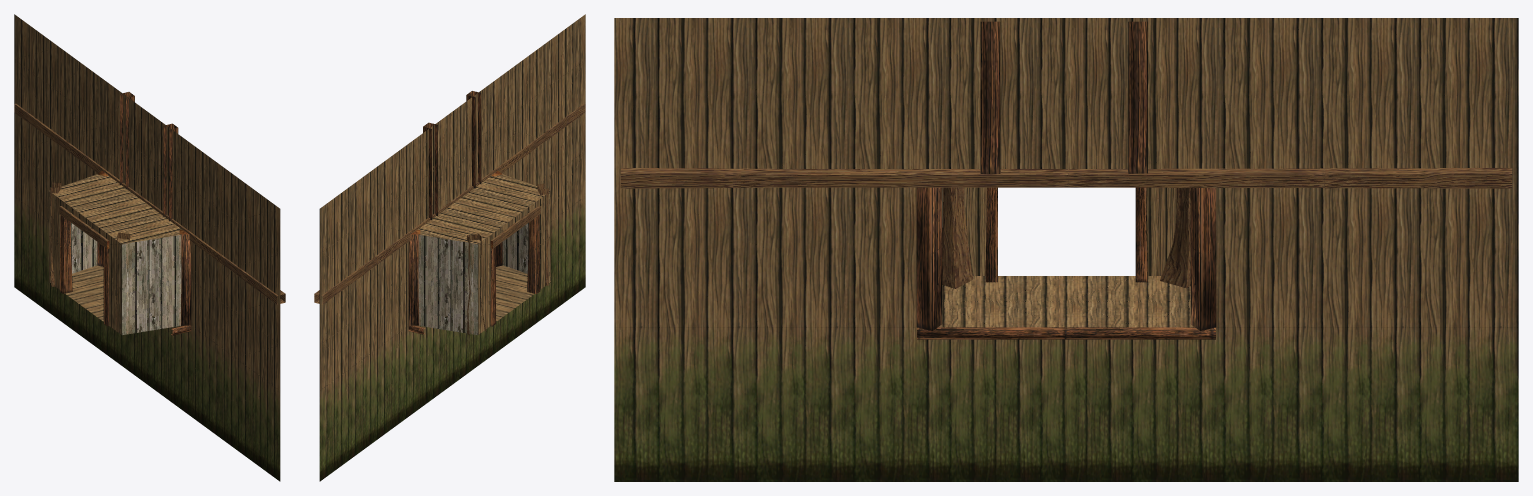
File: LAKETOWN_WAREHOUSE2_PS_WH2_BACKWALL94948__GX.fbx
3 views of the same model, side by side, from view 1: azimuth 30°, elevation 25°; view 2: azimuth 150°, elevation 25°; view 3: azimuth 270°, elevation 25° (orthographic). The views are drawn at different scales.
Visible parts, largest first — view 1: LAKETOWN_WAREHOUSE2_PS_WH2_BACKWALL94948__GX; view 2: LAKETOWN_WAREHOUSE2_PS_WH2_BACKWALL94948__GX; view 3: LAKETOWN_WAREHOUSE2_PS_WH2_BACKWALL94948__GX.
Part boxes in pixels (bbox=[...]): LAKETOWN_WAREHOUSE2_PS_WH2_BACKWALL94948__GX: bbox=[14, 14, 285, 481]; LAKETOWN_WAREHOUSE2_PS_WH2_BACKWALL94948__GX: bbox=[314, 14, 585, 481]; LAKETOWN_WAREHOUSE2_PS_WH2_BACKWALL94948__GX: bbox=[614, 18, 1518, 481].
Bounding box in the file's own units: 29595 × 107247 × 189000.
9 materials, 9 textured.
